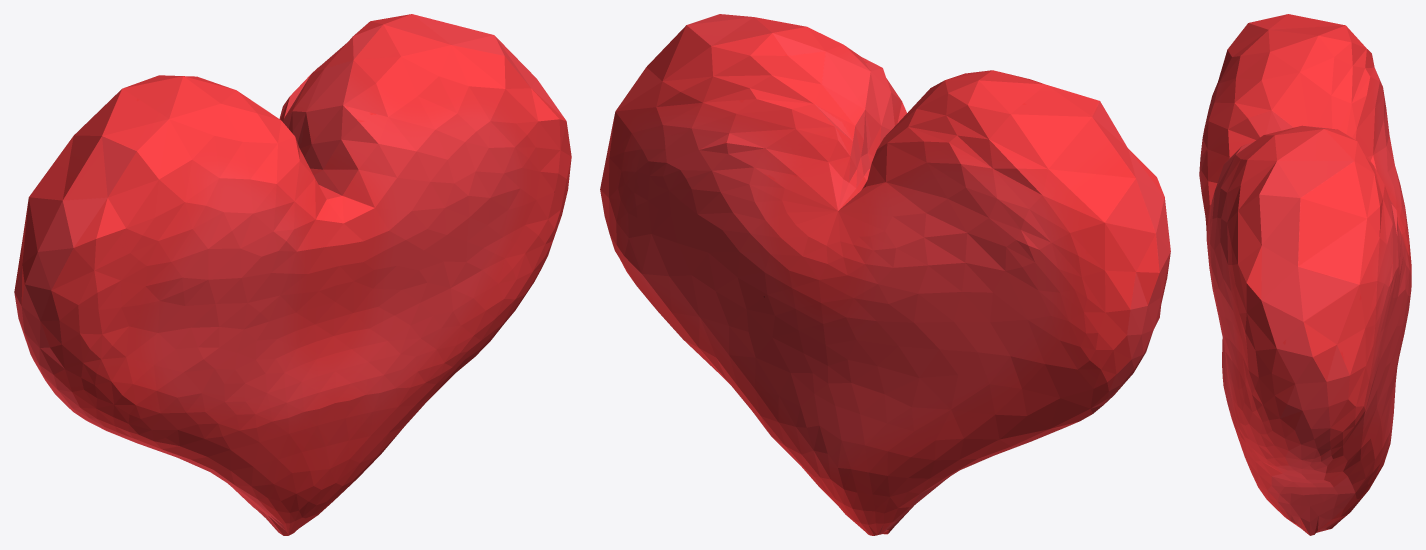
The model's file is katies_big_big_heart.glb.
3 renders of one model, left to right at view 1: azimuth 30°, elevation 25°; view 2: azimuth 150°, elevation 25°; view 3: azimuth 270°, elevation 25°, orthographic. The views are drawn at different scales.
Visible parts, largest first — view 1: Sphere; view 2: Sphere; view 3: Sphere.
Part boxes in pixels (<box>): Sphere: <box>14,14,571,535</box>; Sphere: <box>600,14,1170,535</box>; Sphere: <box>1199,14,1411,535</box>.
Bounding box in the file's own units: 4.12 × 3.49 × 1.49.
1 material, 1 textured.
